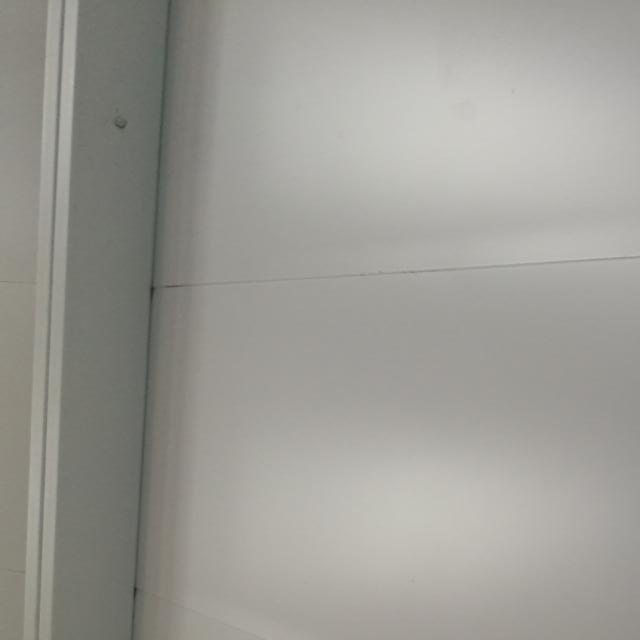fluorescent tube: (536, 38, 640, 640)
